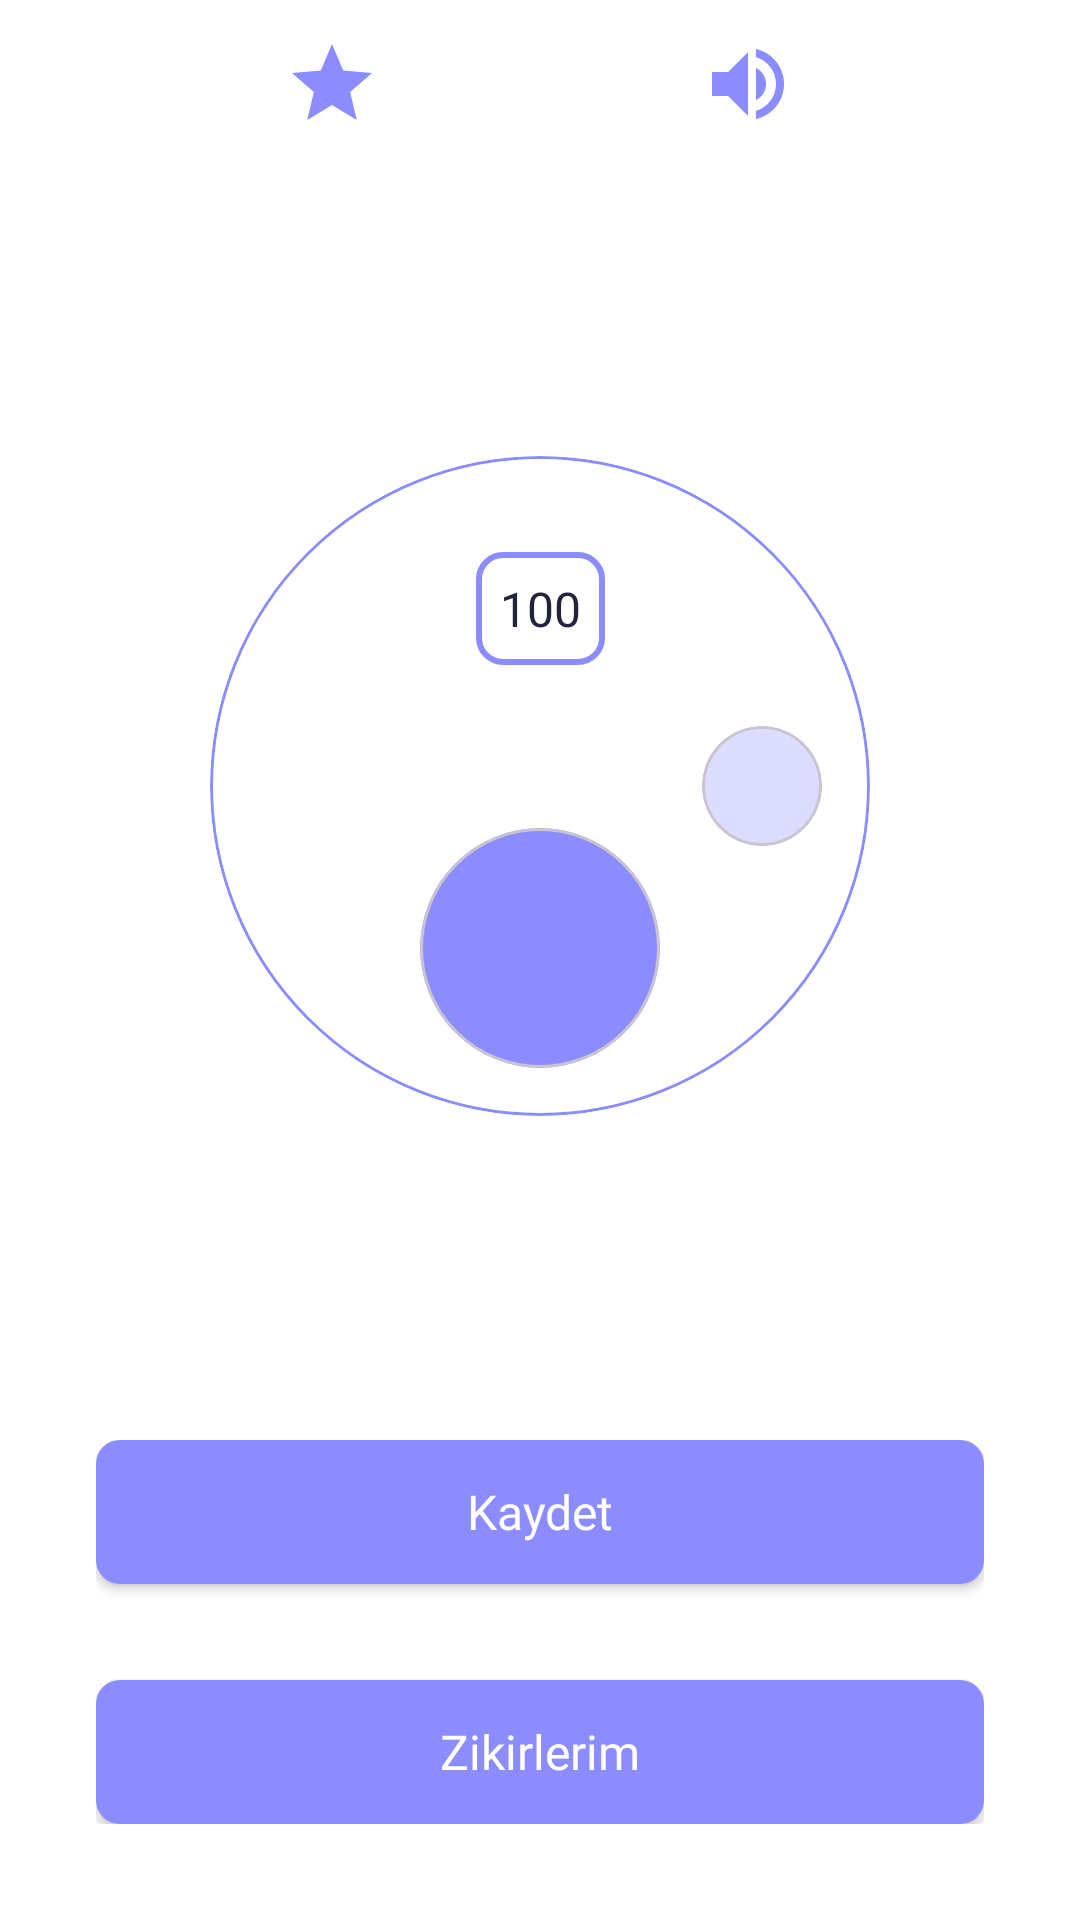

Icons on this 1080x1920 Android screen, each with its box as bbox=[x1, y1, x2, y2]:
star: bbox=[292, 45, 372, 120]
volume on: bbox=[712, 49, 784, 119]
